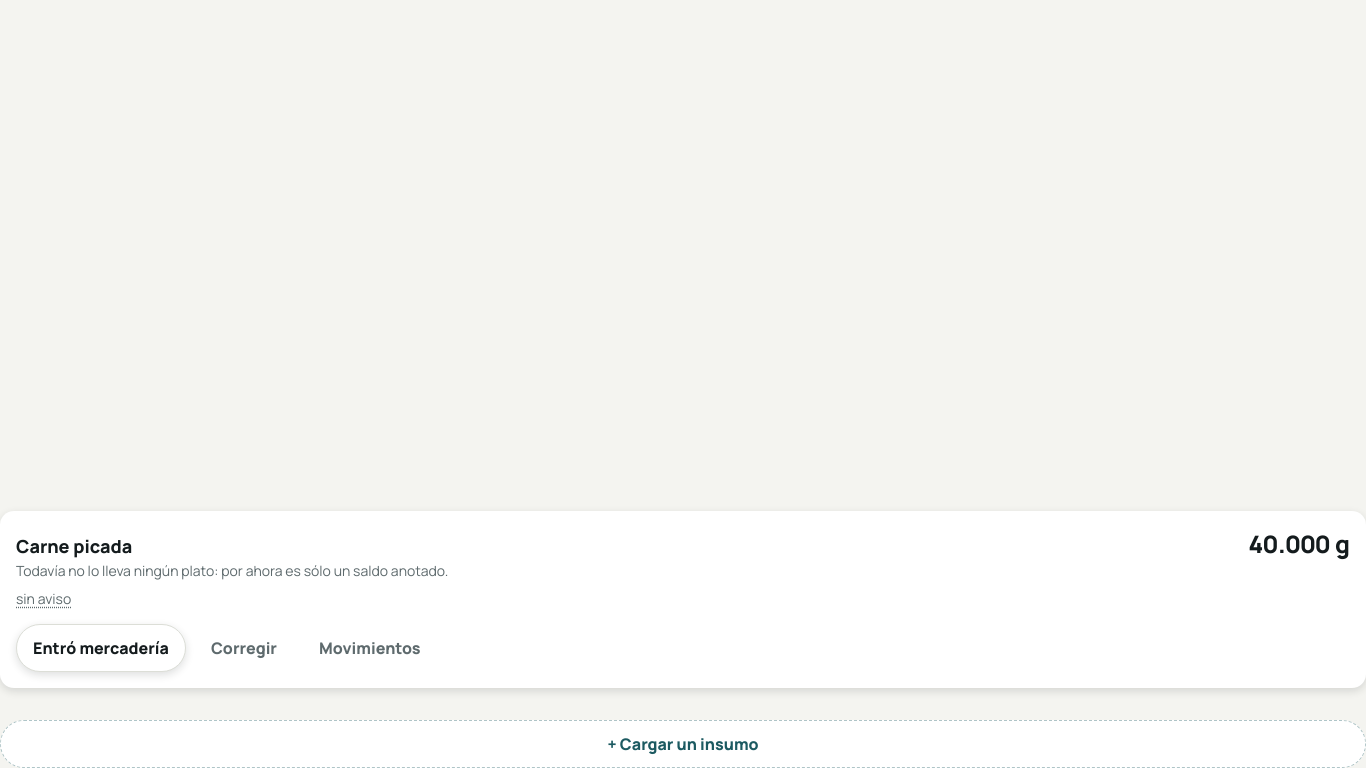
Scenario: mover el saldo › la historia contesta "compré 20 kg, ¿por qué me quedan 3?": qué pasó, cuánto y en cuánto quedó
(page scrolled)
Step 1. Click the button "Movimientos" → click(370, 648), box x1=302 y1=624 x2=438 y2=672
(page scrolled)
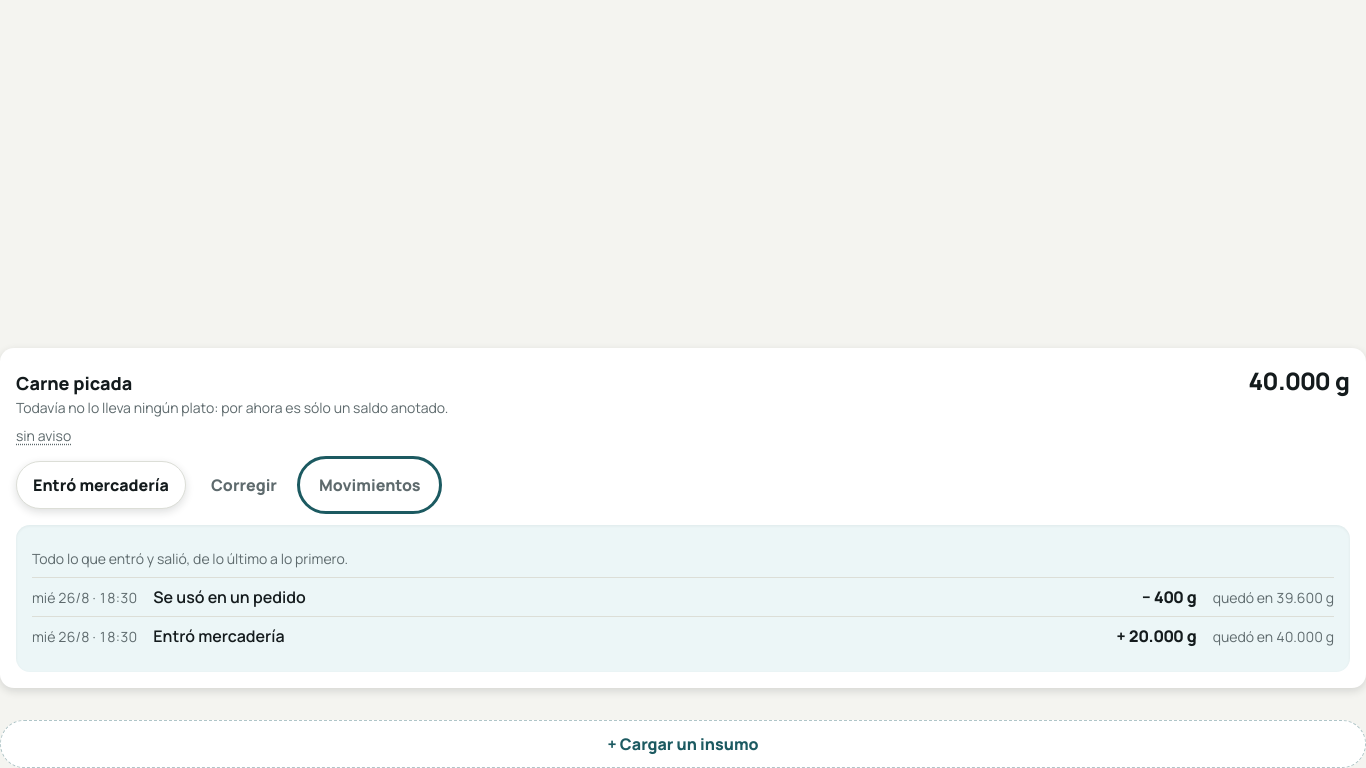
Check: the text "Se usó en un pedido" is shown, box x1=153 y1=586 x2=306 y2=608
Check: the text "− 400 g" is shown, box x1=1142 y1=586 x2=1197 y2=608
Check: the text "quedó en 39.600 g" is shown, box x1=1213 y1=588 x2=1334 y2=608
